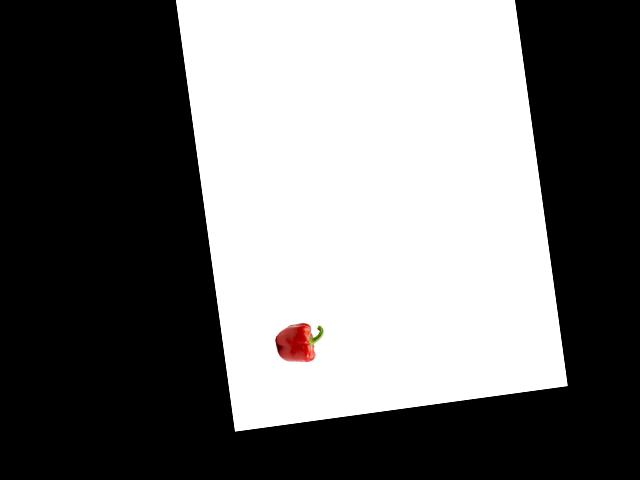bell_pepper: (271, 317, 329, 368)
